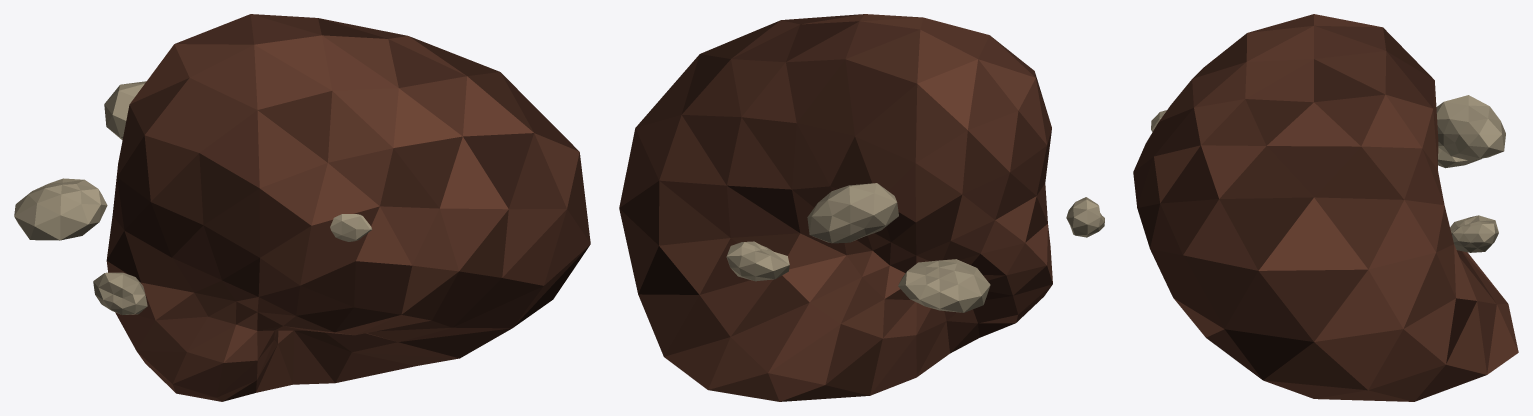
Rendered from sample_rock_c.glb.
The picture shows the model from 3 angles, left to right: view 1: azimuth 30°, elevation 25°; view 2: azimuth 150°, elevation 25°; view 3: azimuth 270°, elevation 25°; orthographic projection. The views are drawn at different scales.
Visible parts, largest first — view 1: SampleRock_C_Mesh; view 2: SampleRock_C_Mesh; view 3: SampleRock_C_Mesh.
Part boxes in pixels (left/top/right/bottom): SampleRock_C_Mesh: left=14, top=14, right=590, bottom=401; SampleRock_C_Mesh: left=619, top=14, right=1104, bottom=401; SampleRock_C_Mesh: left=1133, top=14, right=1518, bottom=401.
Size of the model in its own units: 0.4509 by 0.2966 by 0.3687.
